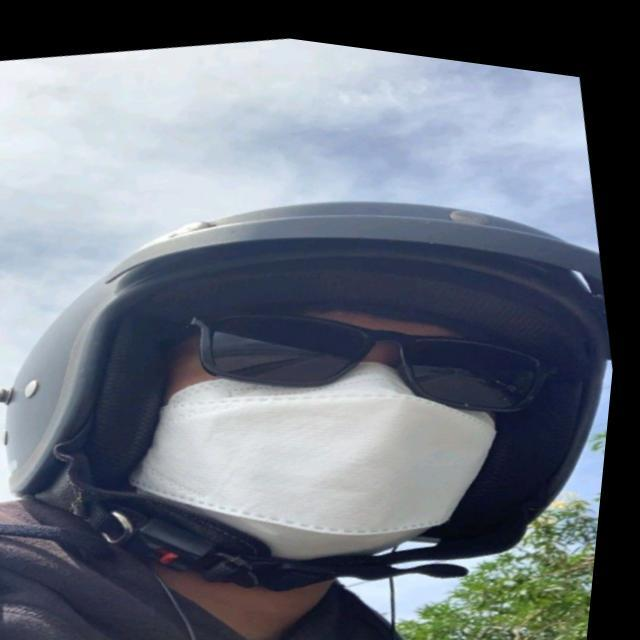Helmet: (0, 182, 616, 594)
